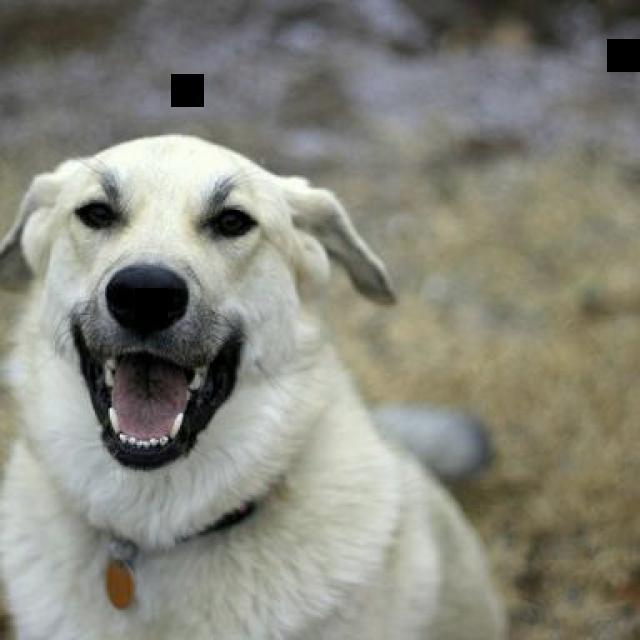adult_dog: (1, 126, 507, 640)
